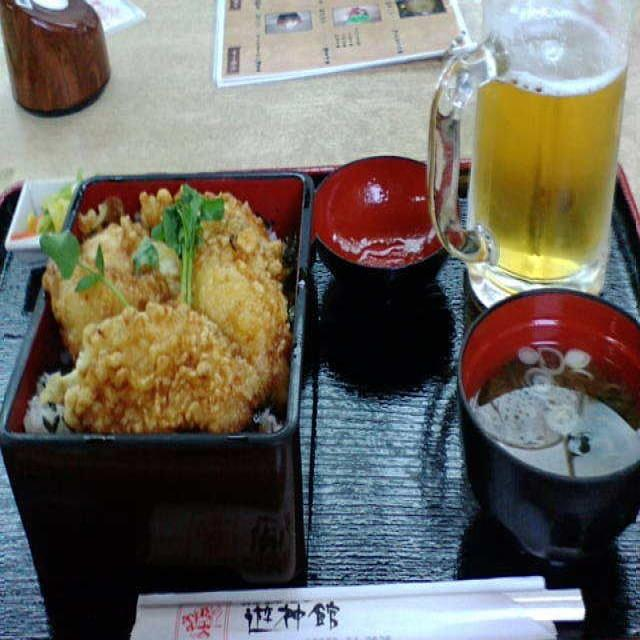汤锅炖物: (474, 309, 640, 491)
熟制海鲜: (8, 182, 292, 454)
